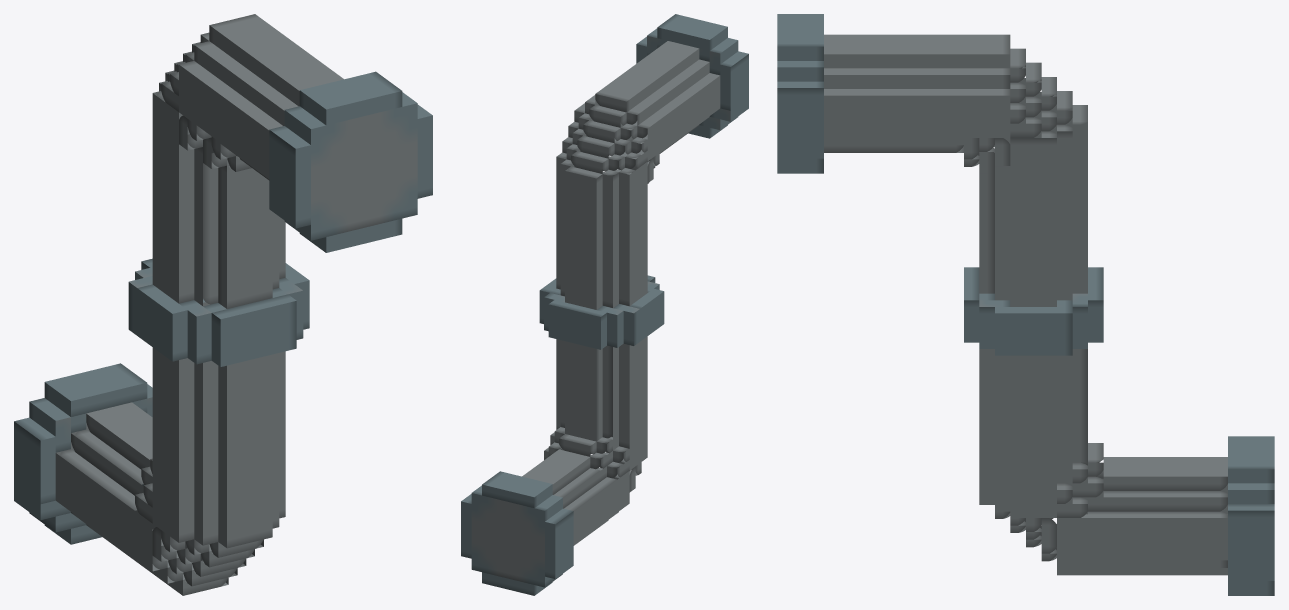
Rendered from RURA_S.dae.
The picture shows the model from 3 angles, left to right: view 1: azimuth 30°, elevation 25°; view 2: azimuth 150°, elevation 25°; view 3: azimuth 270°, elevation 25°; orthographic projection. The views are drawn at different scales.
Visible parts, largest first — view 1: Content; view 2: Content; view 3: Content.
Part boxes in pixels (x1,y1,x2,y2): Content: (14, 14, 432, 595); Content: (461, 14, 748, 595); Content: (777, 14, 1274, 595).
Bounding box in the file's own units: 9 × 39 × 32.
Materials: 1 (1 with a texture image).
